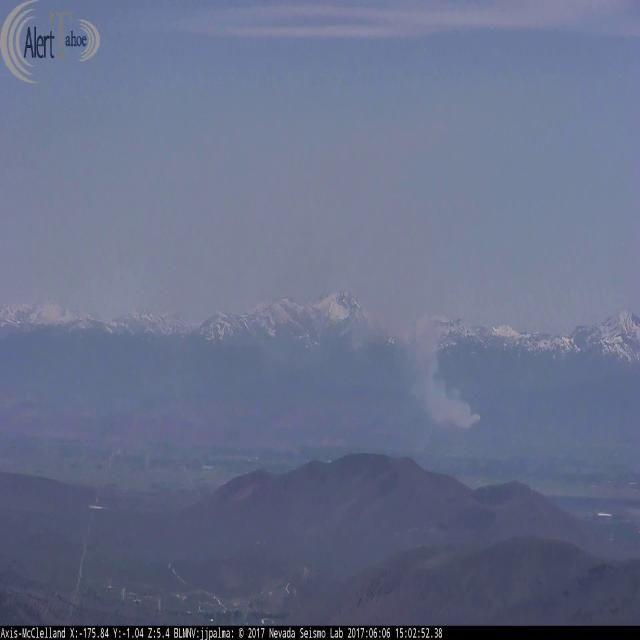smoke: (353, 260, 497, 437)
